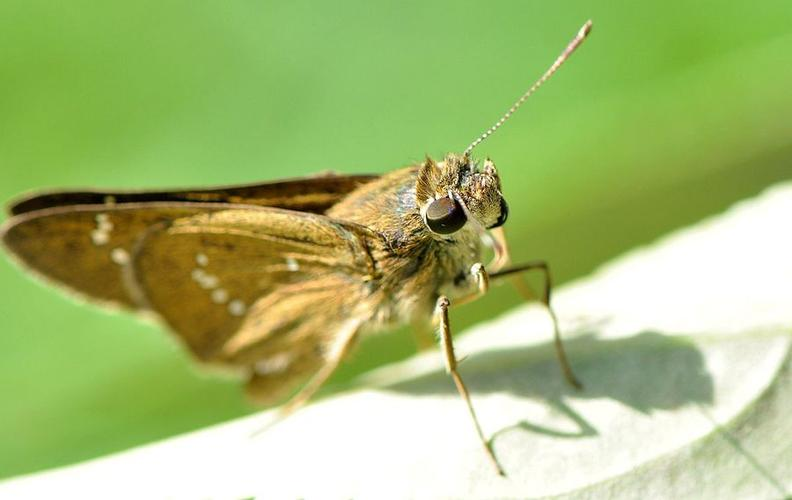Hesperiidae: (2, 20, 599, 484)
